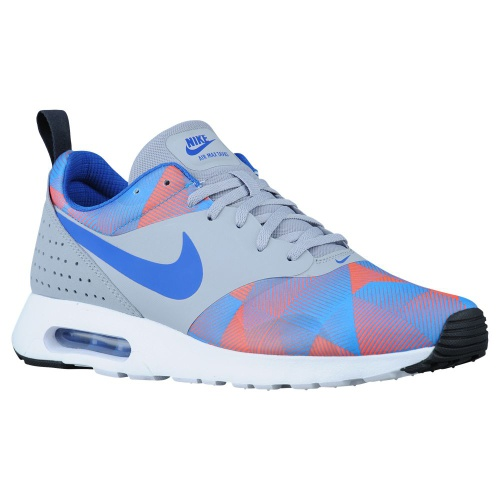nike: (60, 218, 206, 306)
